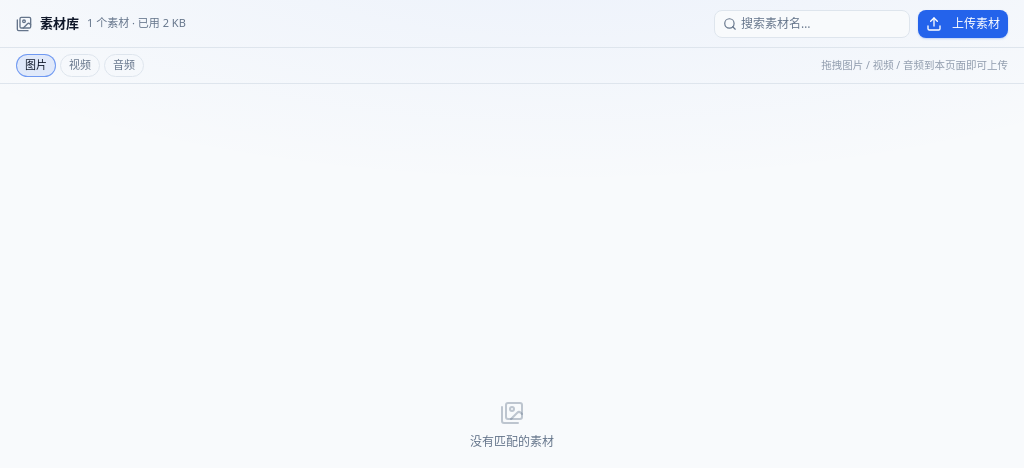
M68 MaterialsConsole › 类型筛选-音频：默认「图片」筛下无命中（没有匹配）；点「音频」chip 触发 kind=audio 且条目可见
This screenshot has width=1024, height=468.
Check: the text "没有匹配的素材" is shown, box [470, 433, 554, 451]
Click the button "音频" at point(124, 66), box [104, 54, 144, 77]
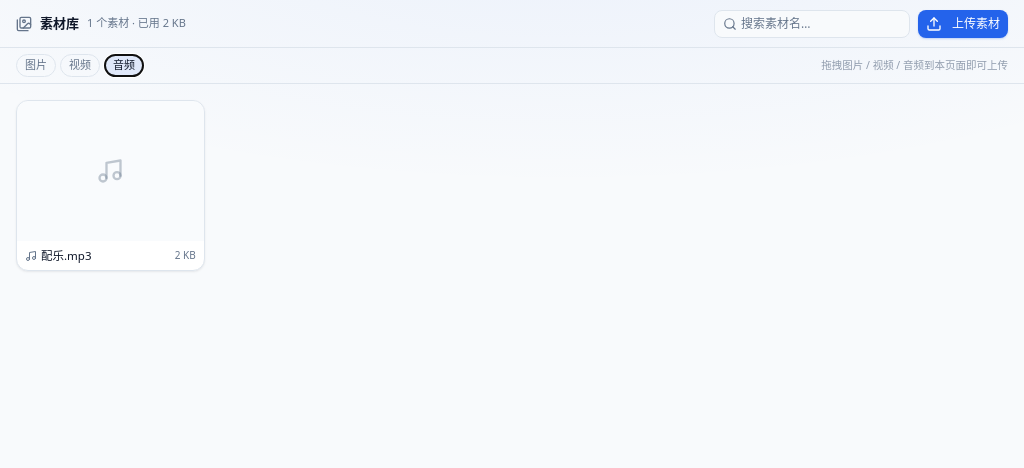
Check: the text "配乐.mp3" is shown, box [41, 248, 92, 263]
